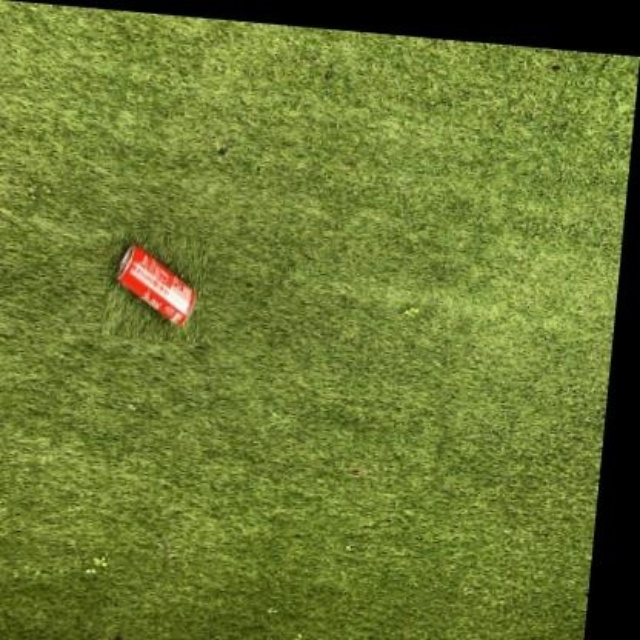trash: (117, 246, 195, 325)
